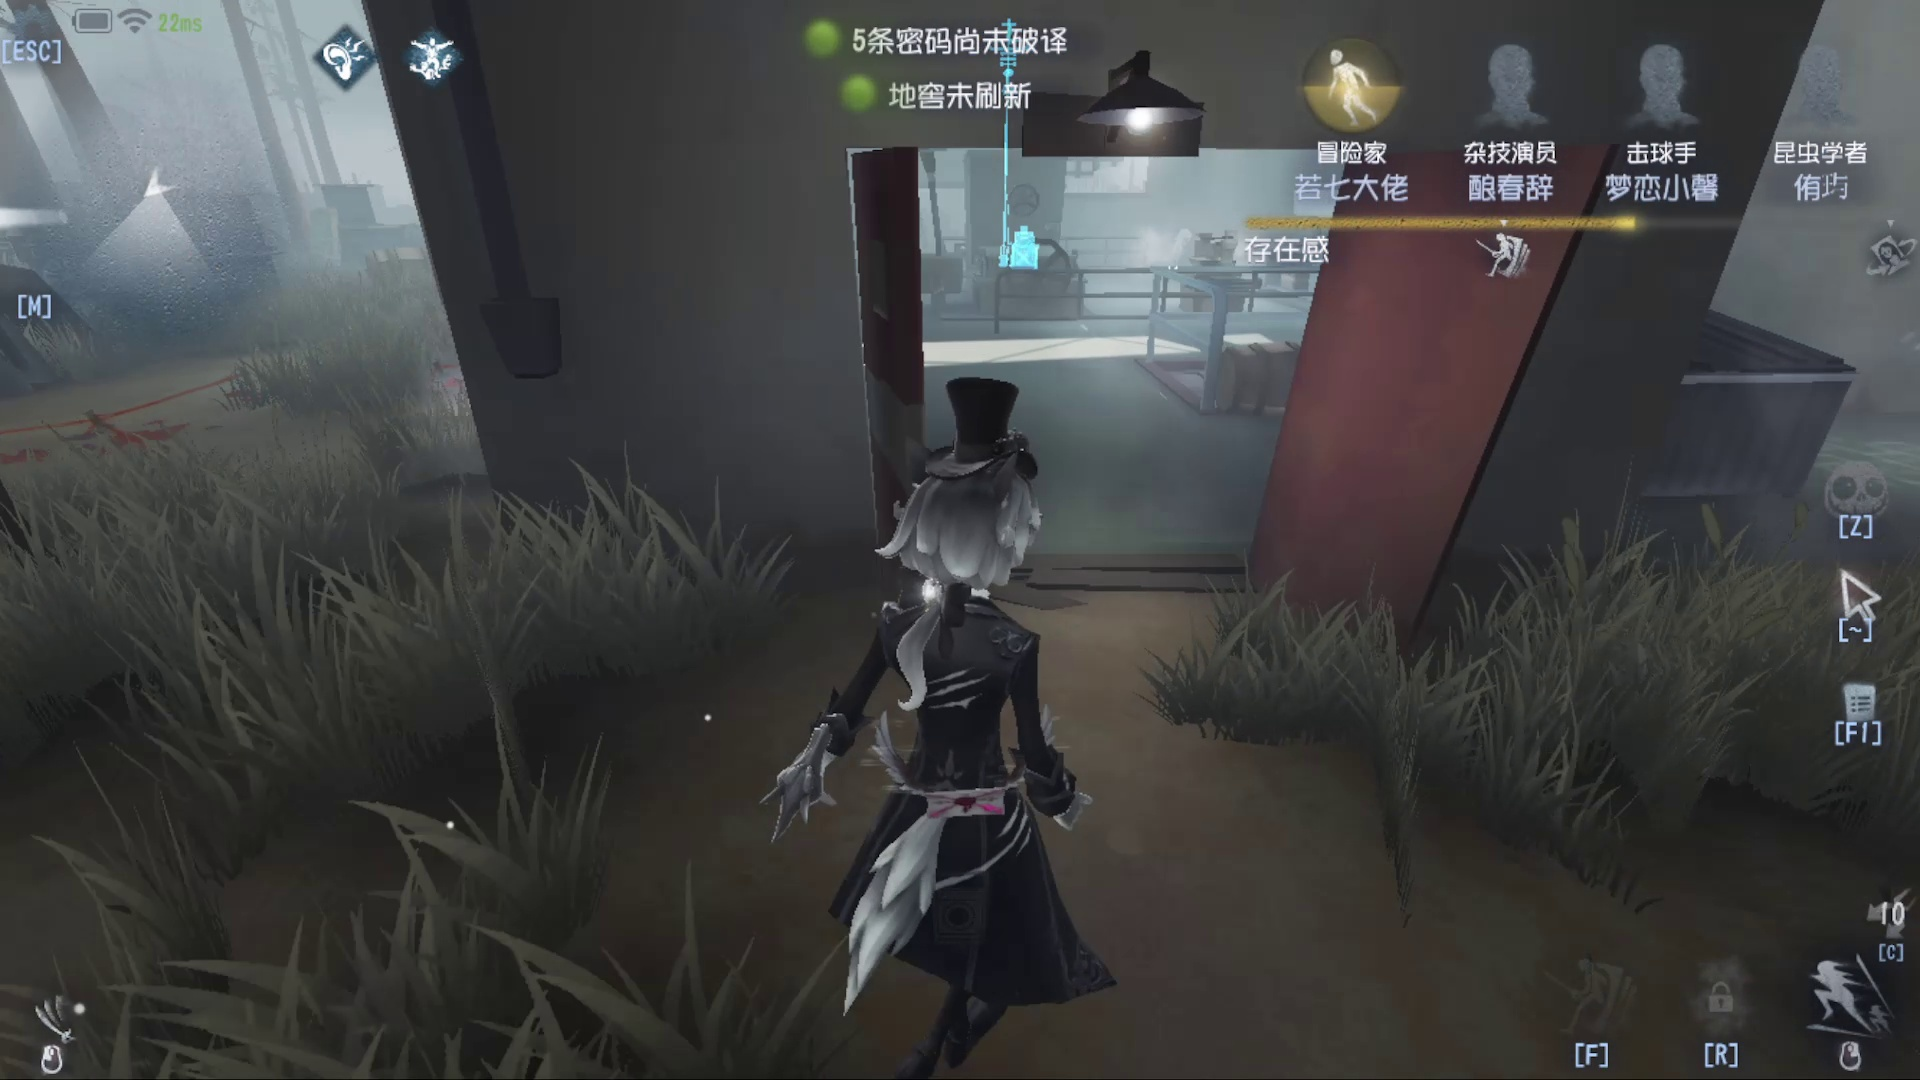密码机: (975, 25, 1084, 270)
脚印: (38, 371, 282, 434)
